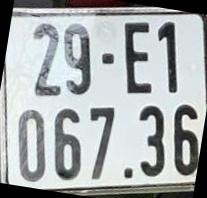-: (100, 50, 116, 65)
.: (122, 165, 133, 180)
0: (16, 107, 47, 184)
1: (157, 19, 180, 95)
2: (33, 22, 63, 99)
3: (139, 106, 165, 177)
6: (52, 106, 81, 181), (174, 104, 200, 176)
7: (90, 104, 116, 180)
9: (63, 24, 91, 96)
E: (124, 22, 155, 95)
